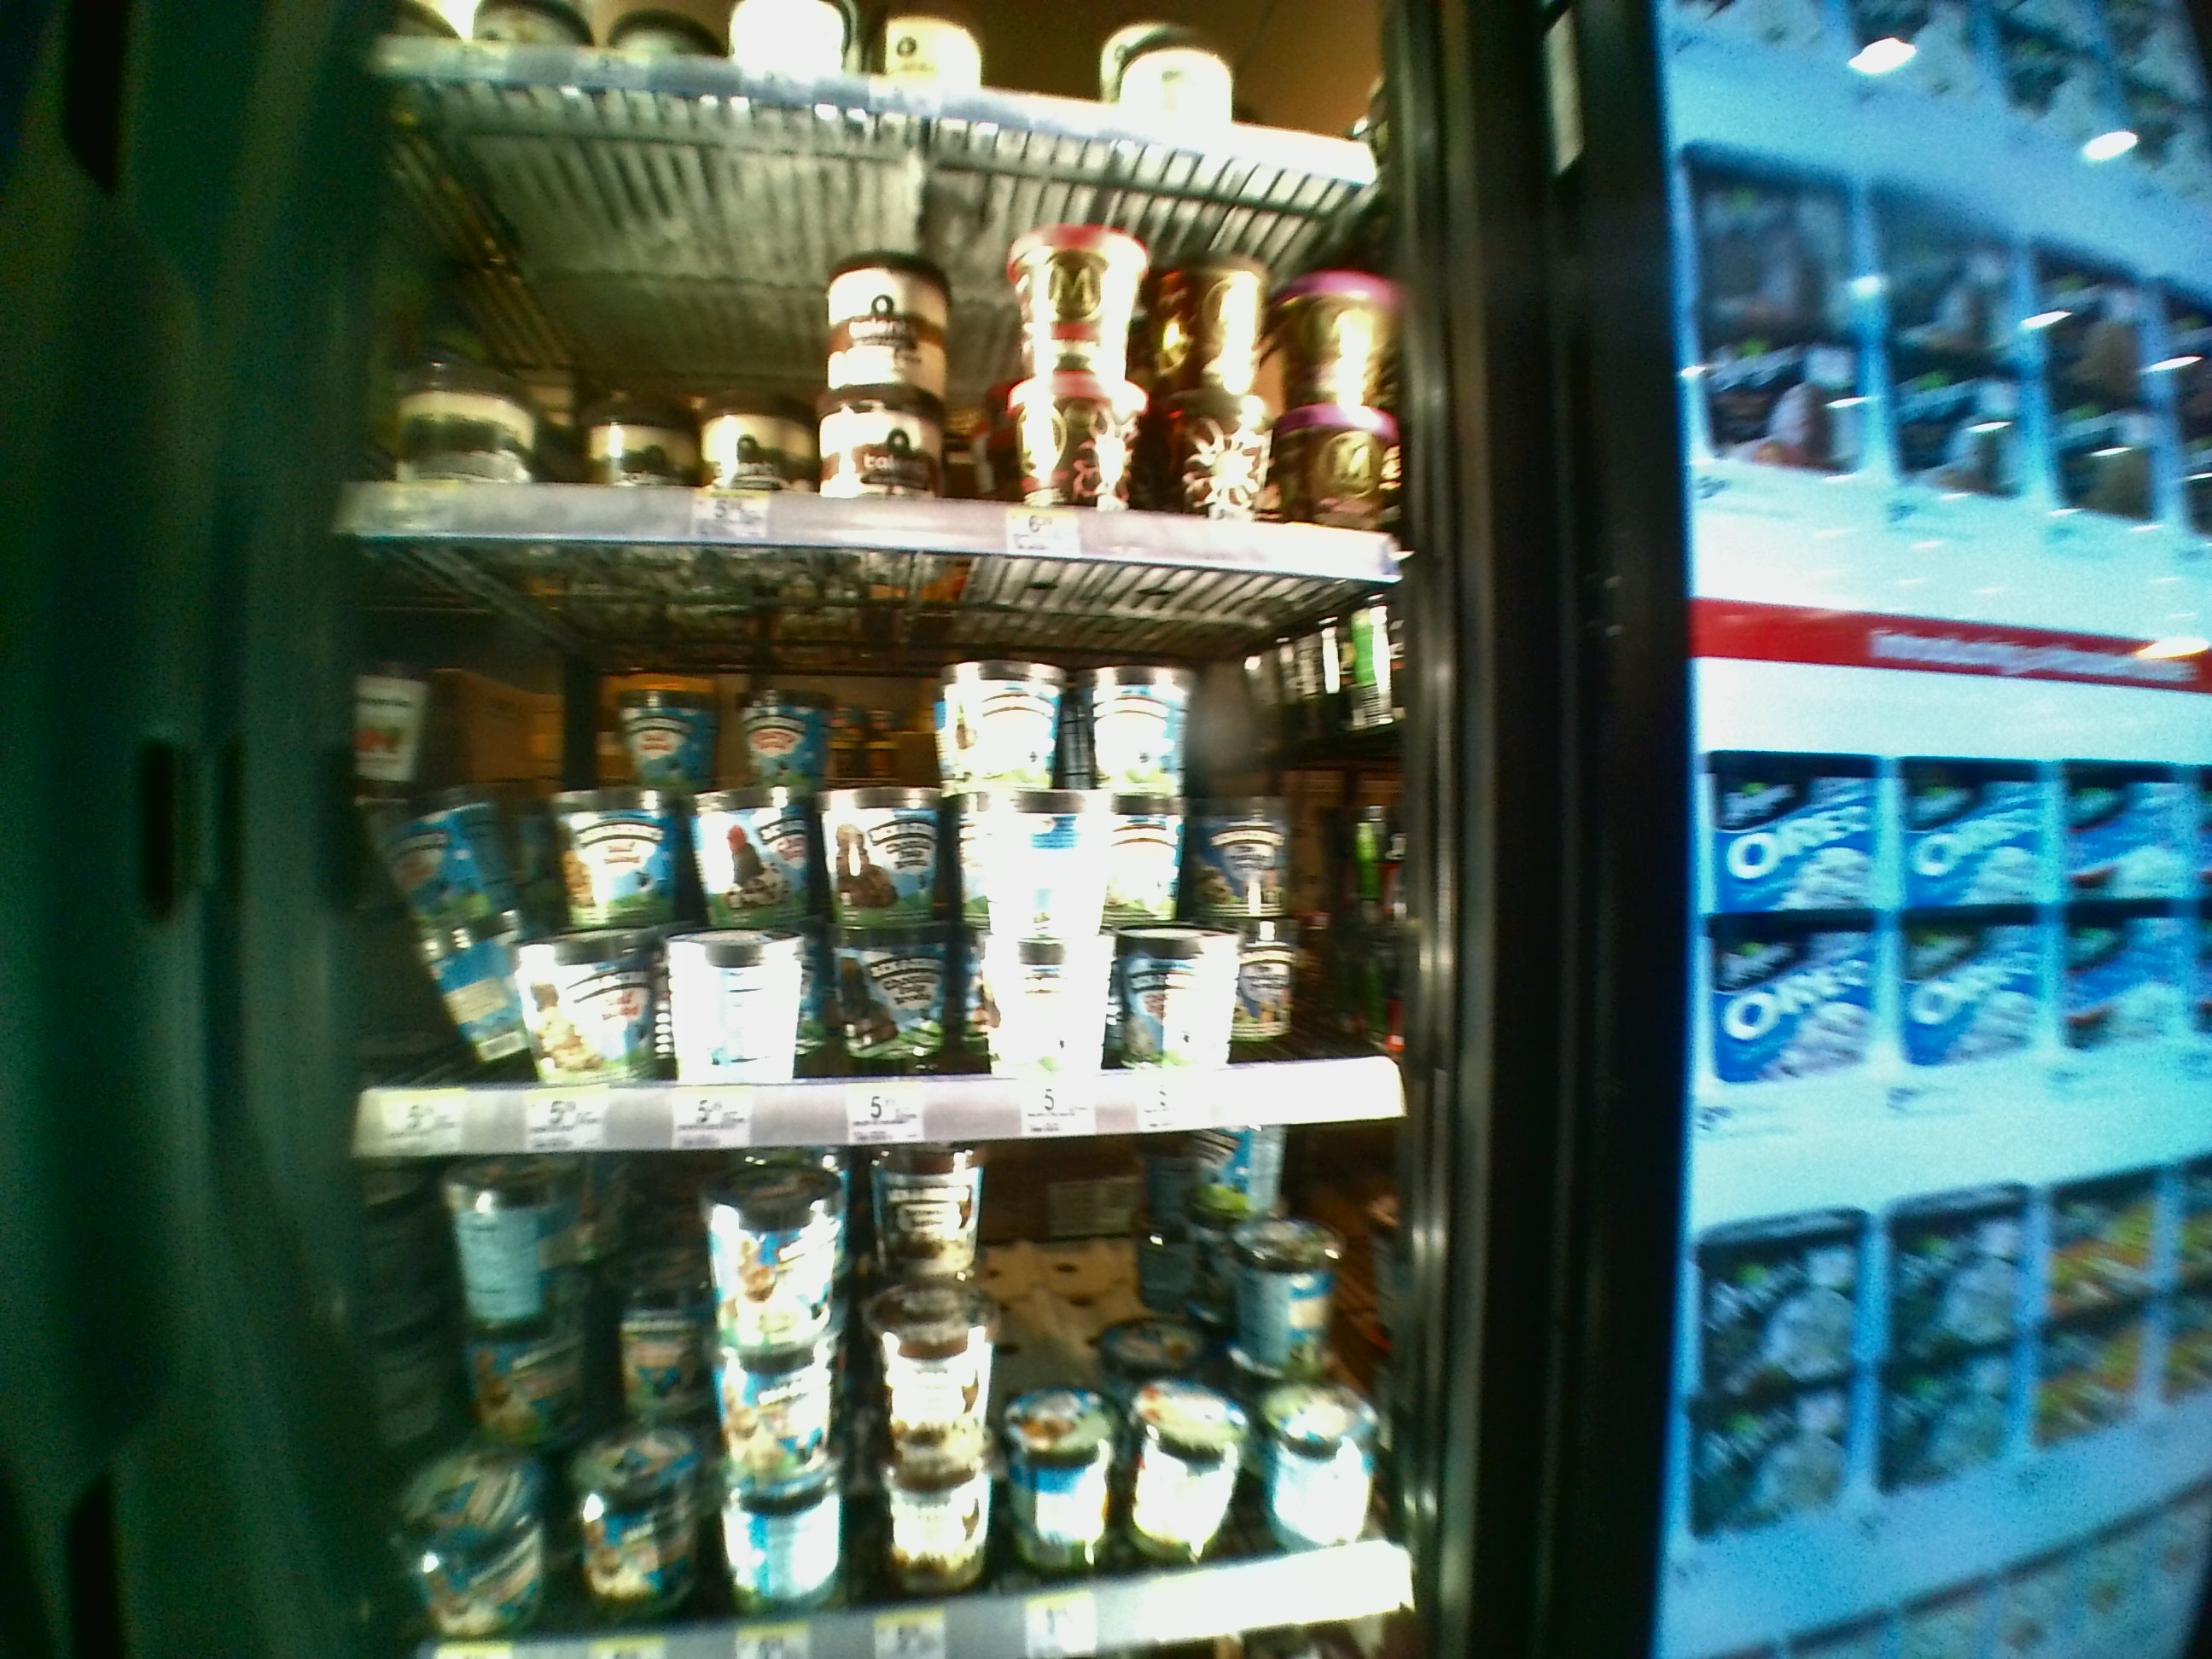shelf: (348, 579, 1413, 1150), (348, 78, 1407, 556)
